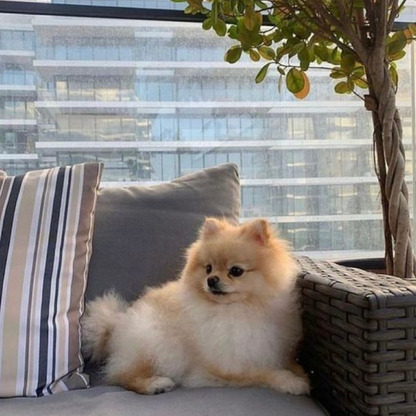Pomeranian: (73, 216, 320, 399)
